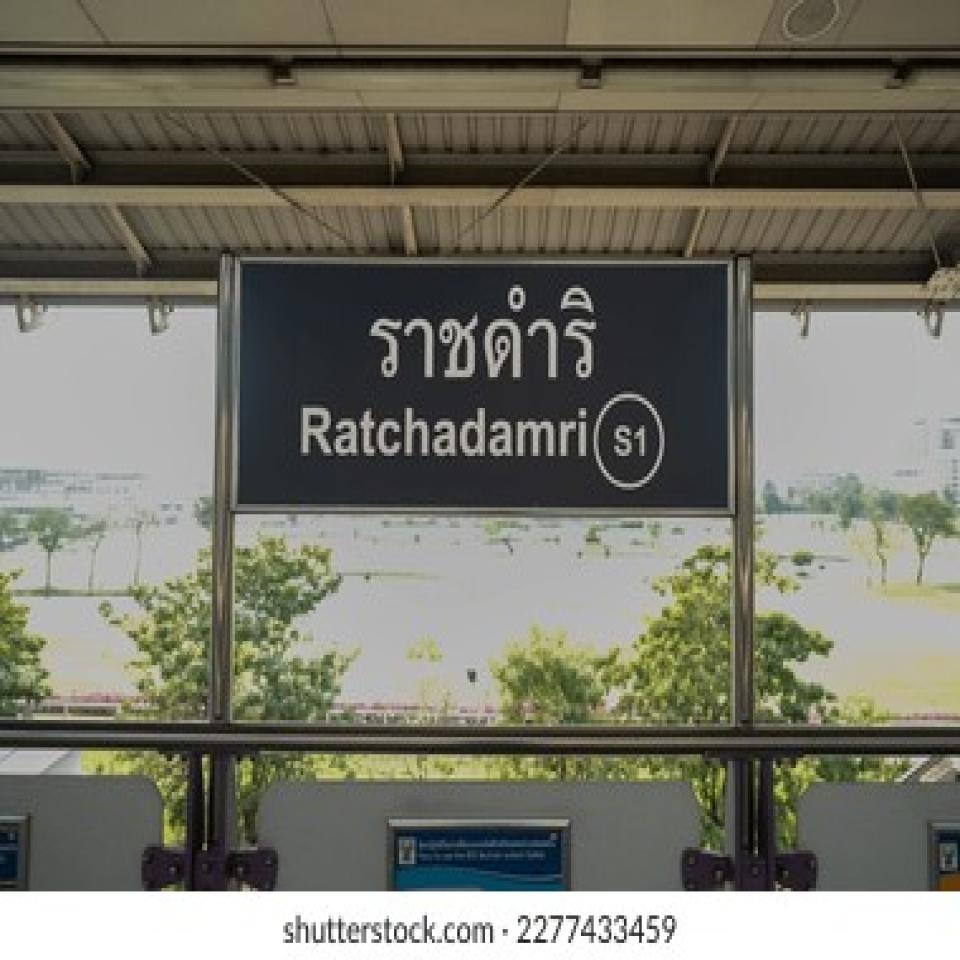signage: (229, 255, 737, 516)
